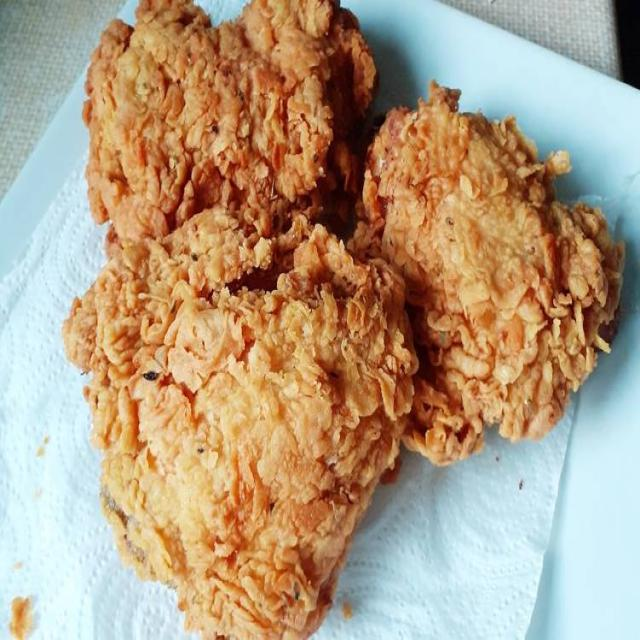Frango: (60, 214, 415, 640), (358, 95, 625, 462), (78, 0, 370, 250)
